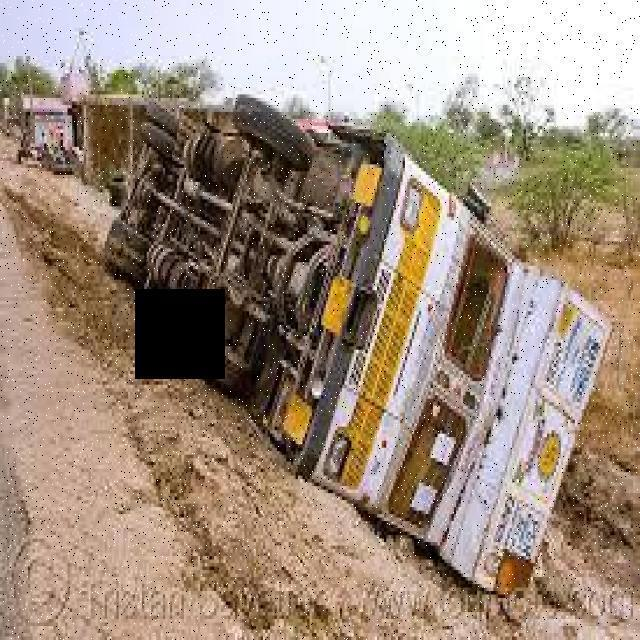accident: (93, 81, 612, 609)
